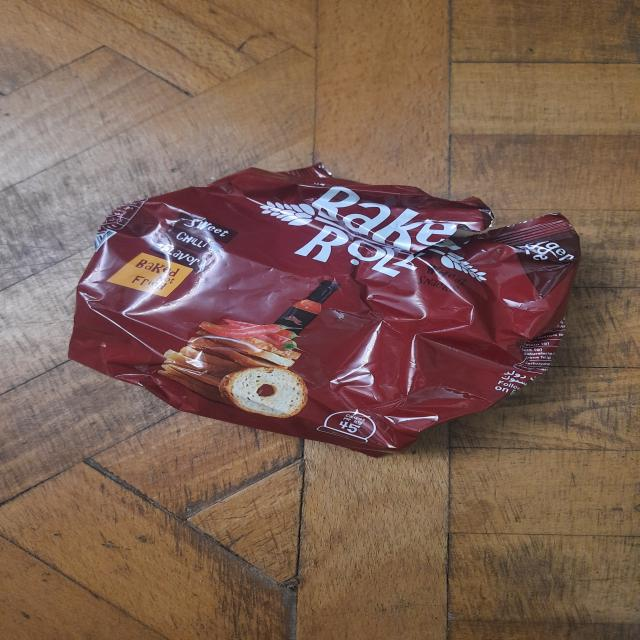trash: (44, 132, 594, 457)
